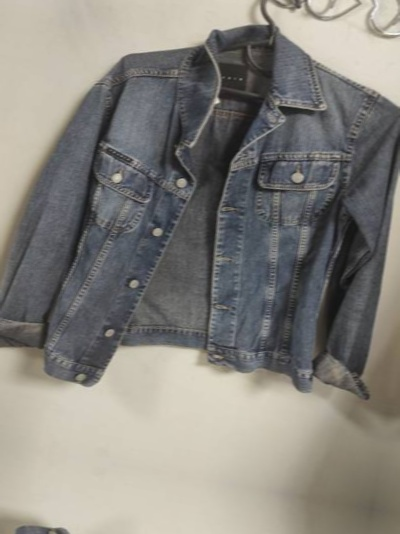Blazer: (0, 0, 400, 437), (0, 508, 341, 534), (0, 0, 10, 364)
